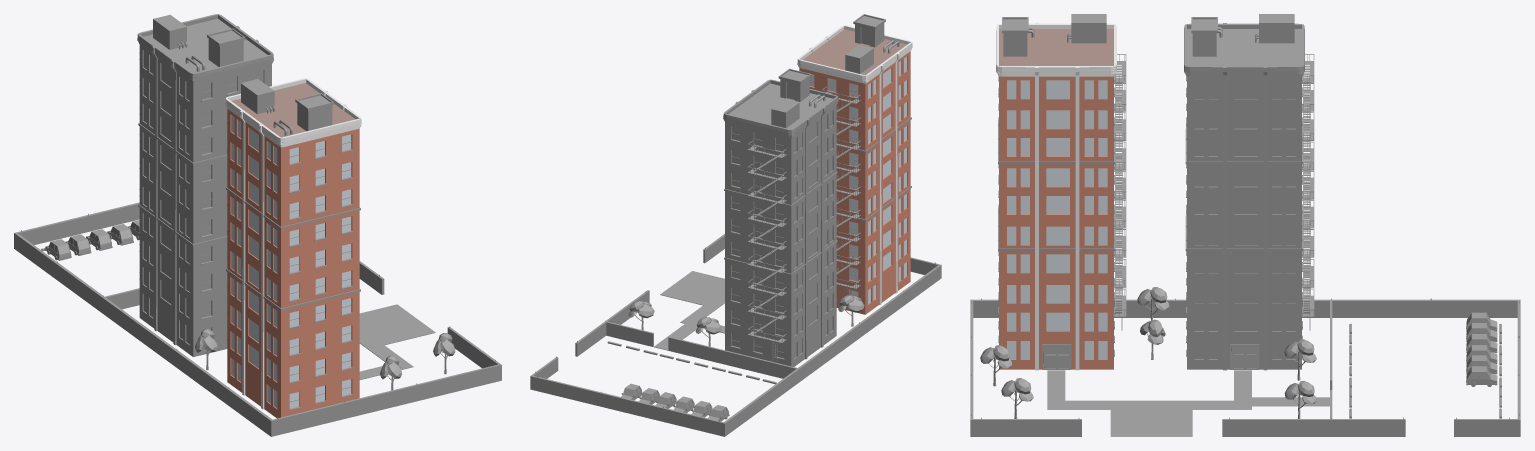
File: gemelas.fbx
The picture shows the model from 3 angles, left to right: view 1: azimuth 30°, elevation 25°; view 2: azimuth 150°, elevation 25°; view 3: azimuth 270°, elevation 25°; orthographic projection. The views are drawn at different scales.
Visible parts, largest first — view 1: pCube1554, pCube1642, pCube1646, pCube1651, pCube1752, pCube1832, pCube1614, pCube1526; view 2: pCube1642, pCube1554, pCube1646, pCube1618, pCube1651, pCube1530, pCube1752, pCube1832, pCube1614, pCube1526; view 3: pCube1554, pCube1642, pCube1646, pCube1651, pCube1530, pCube1618, pCube1526, pCube1614, pCube1752, pCube1832, pCube1552, pCube1640 (+5 smaller).
Part boxes in pixels (left/top/right/bottom): pCube1554: left=225, top=78, right=361, bottom=417; pCube1642: left=137, top=14, right=273, bottom=356; pCube1646: left=14, top=202, right=501, bottom=436; pCube1651: left=359, top=304, right=435, bottom=379; pCube1752: left=207, top=28, right=245, bottom=66; pCube1832: left=295, top=93, right=333, bottom=131; pCube1614: left=153, top=14, right=186, bottom=49; pCube1526: left=241, top=79, right=274, bottom=114; pCube1642: left=723, top=79, right=838, bottom=366; pCube1554: left=797, top=25, right=912, bottom=314; pCube1646: left=530, top=234, right=941, bottom=436; pCube1618: left=747, top=140, right=786, bottom=361; pCube1651: left=654, top=271, right=724, bottom=350; pCube1530: left=822, top=86, right=860, bottom=295; pCube1752: left=778, top=68, right=811, bottom=101; pCube1832: left=853, top=14, right=885, bottom=47; pCube1614: left=771, top=99, right=799, bottom=128; pCube1526: left=845, top=44, right=873, bottom=73; pCube1554: left=996, top=23, right=1116, bottom=370; pCube1642: left=1184, top=23, right=1304, bottom=370; pCube1646: left=970, top=299, right=1520, bottom=436; pCube1651: left=1047, top=370, right=1329, bottom=436; pCube1530: left=1114, top=54, right=1126, bottom=330; pCube1618: left=1302, top=54, right=1314, bottom=330; pCube1526: left=1071, top=14, right=1106, bottom=43; pCube1614: left=1259, top=14, right=1294, bottom=43; pCube1752: left=1191, top=17, right=1217, bottom=56; pCube1832: left=1002, top=17, right=1028, bottom=56; pCube1552: left=1042, top=344, right=1071, bottom=369; pCube1640: left=1230, top=344, right=1259, bottom=369.
Size of the model in its own units: 104 by 131 by 200.
